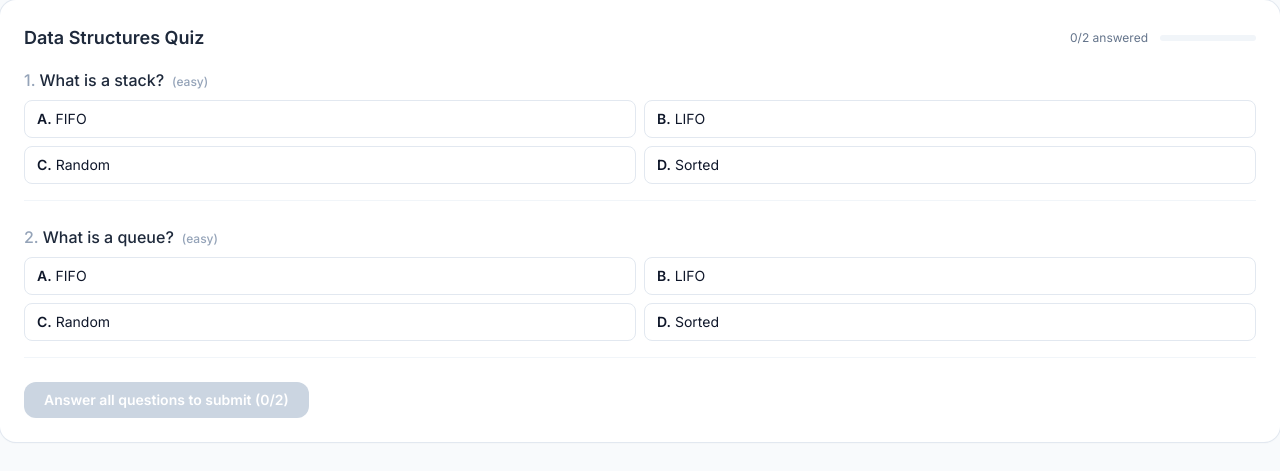
Scenario: QuizPanel › scores answers correctly after submission
What coordinates should you click on to do the following:
click the 1st button "B. LIFO"
I would click on:
 (690, 118)
Its box is [644,100,1256,138].
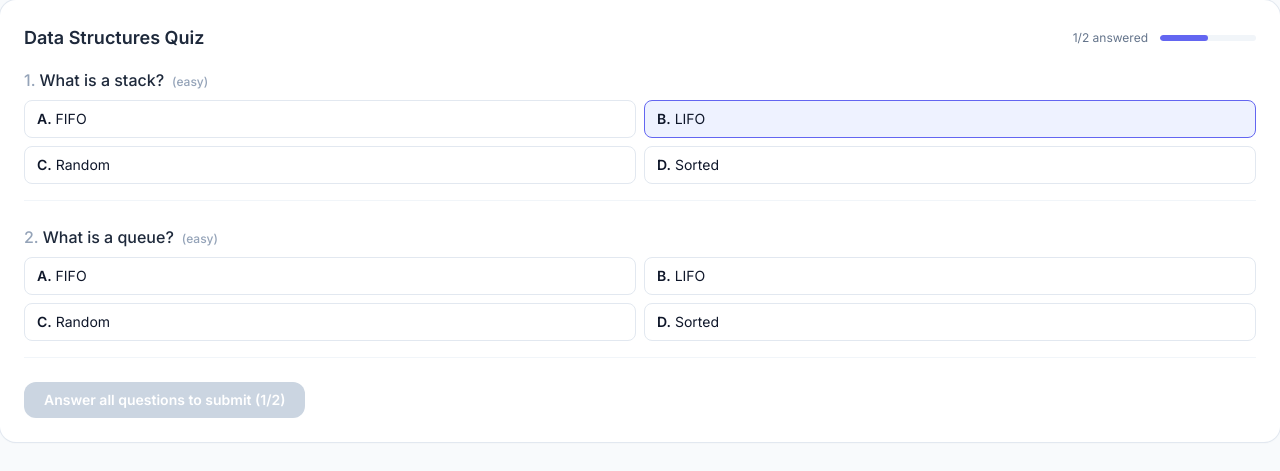
What coordinates should you click on to do the following:
click the button "A. FIFO" below "What is a queue?"
I would click on:
 (71, 276)
Its box is [24,257,636,295].
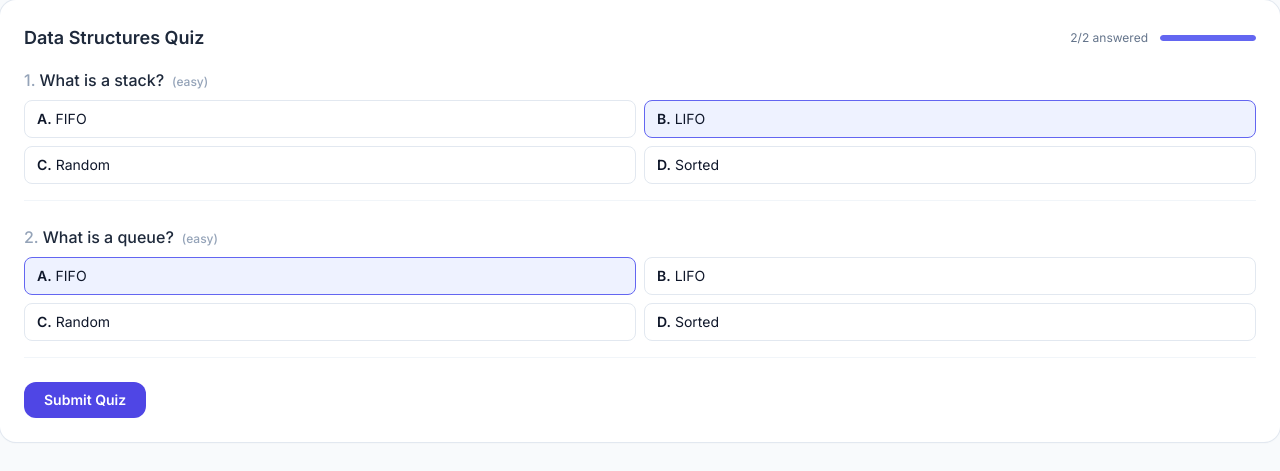
Check: the button "Submit Quiz" is enabled
What coordinates should you click on to do the following:
click the button "Submit Quiz"
I would click on:
 (85, 400)
Its box is [24,382,146,418].
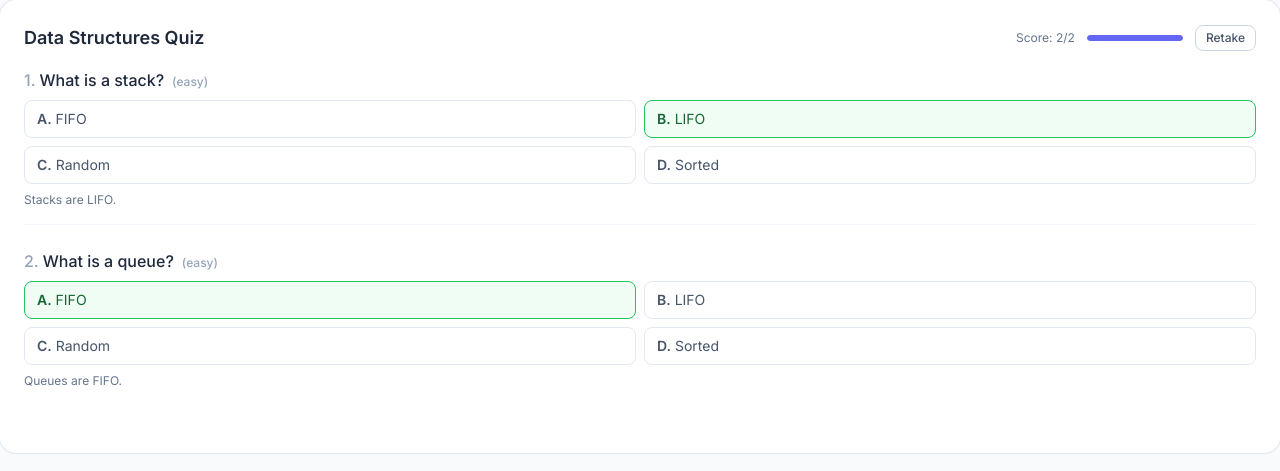
Check: the text "Score: 2/2" is shown, box [1016,30,1075,46]
Check: the text "Stacks are LIFO." is shown, box [24,192,116,207]
